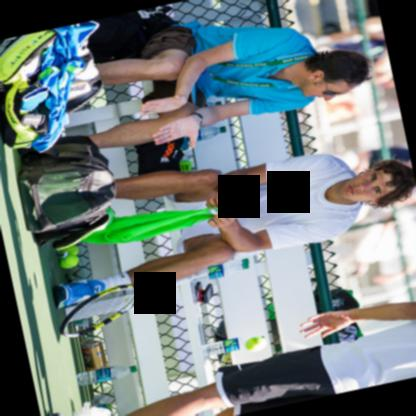handbag: (18, 134, 115, 249)
